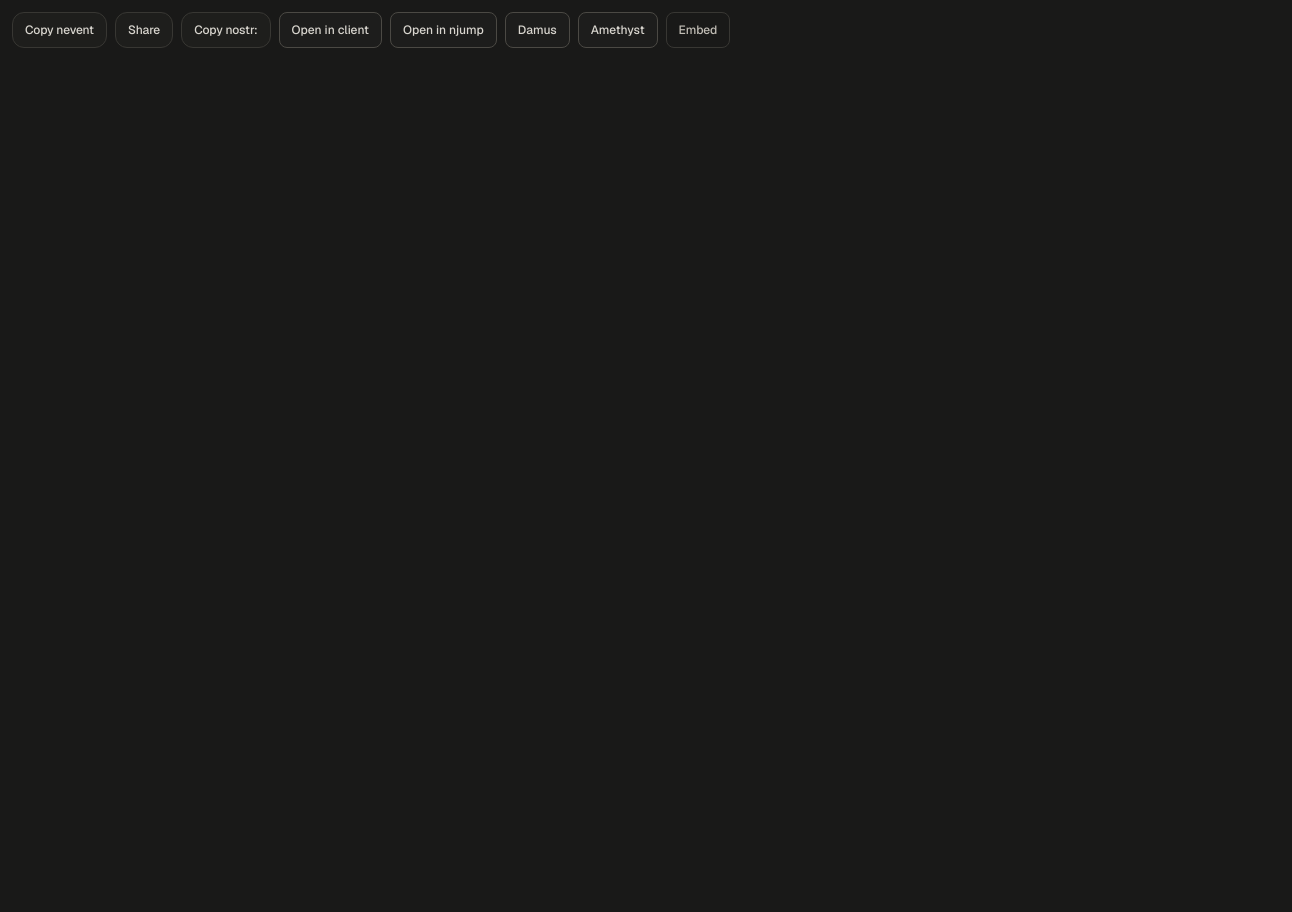
EntityActions › copies identifier, share link, and embed snippet with toast feedback
Click the button "Copy nevent". click: click(59, 30)
box: [12,12,107,48]
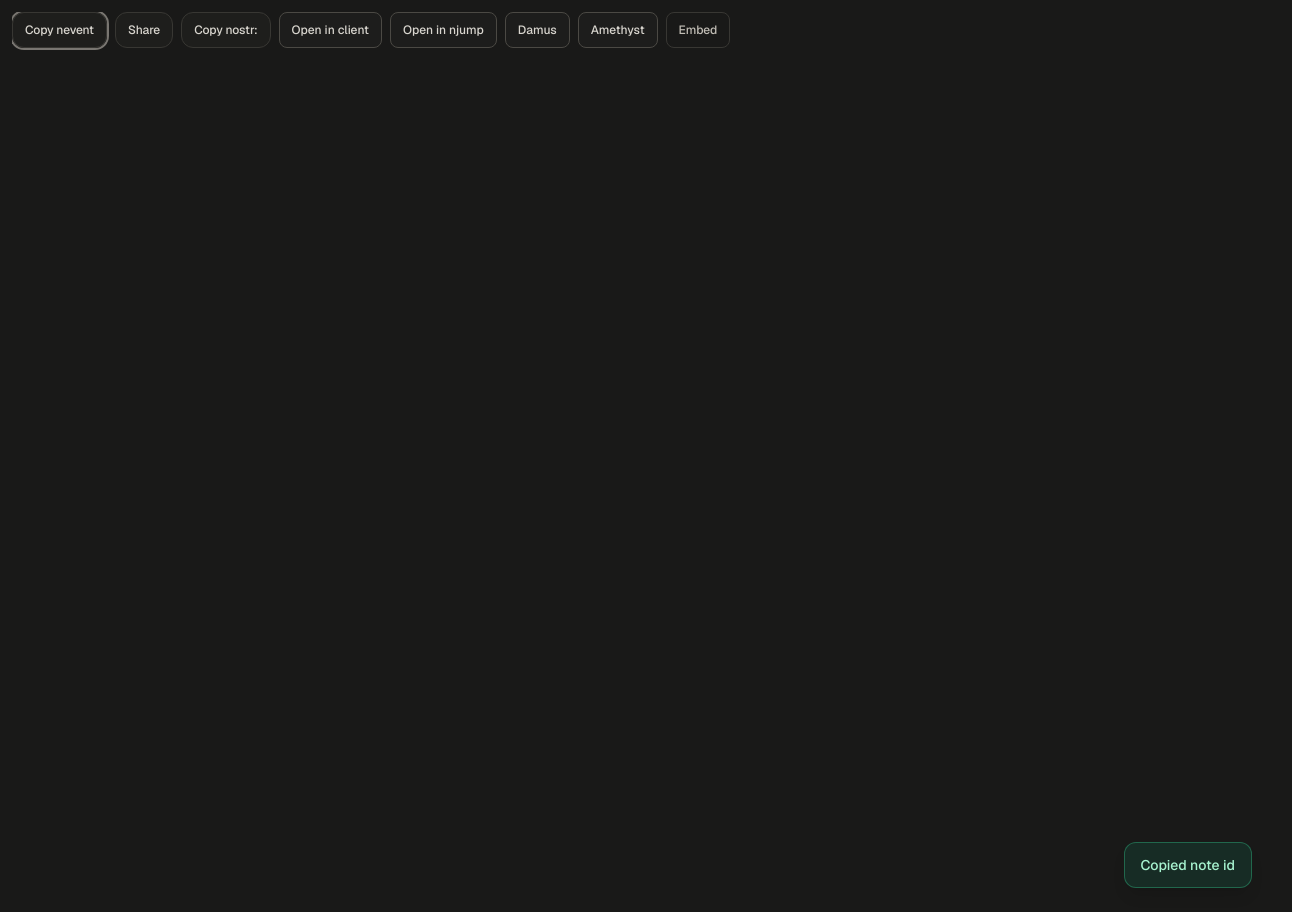
Expected: the text "Copied note id" is shown, [1124,842,1252,888]
Click the button "Share". click: click(144, 30)
box: [115,12,173,48]
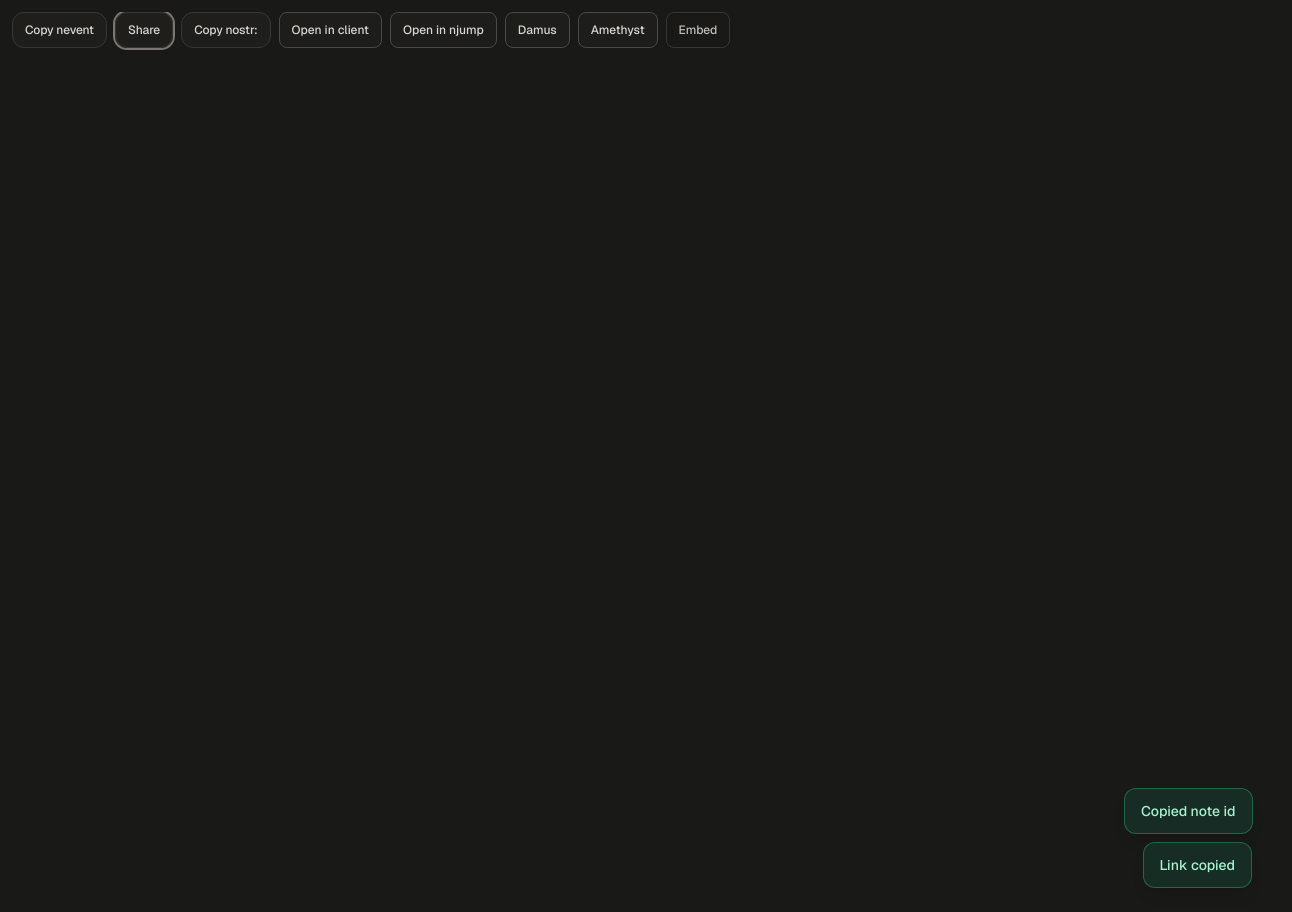
Expected: the link "Damus" is shown, [505,12,570,48]
Expected: the text "Link copied" is shown, [1143,842,1252,888]
Click the button "Embed". click: click(698, 30)
box: [666,12,730,48]
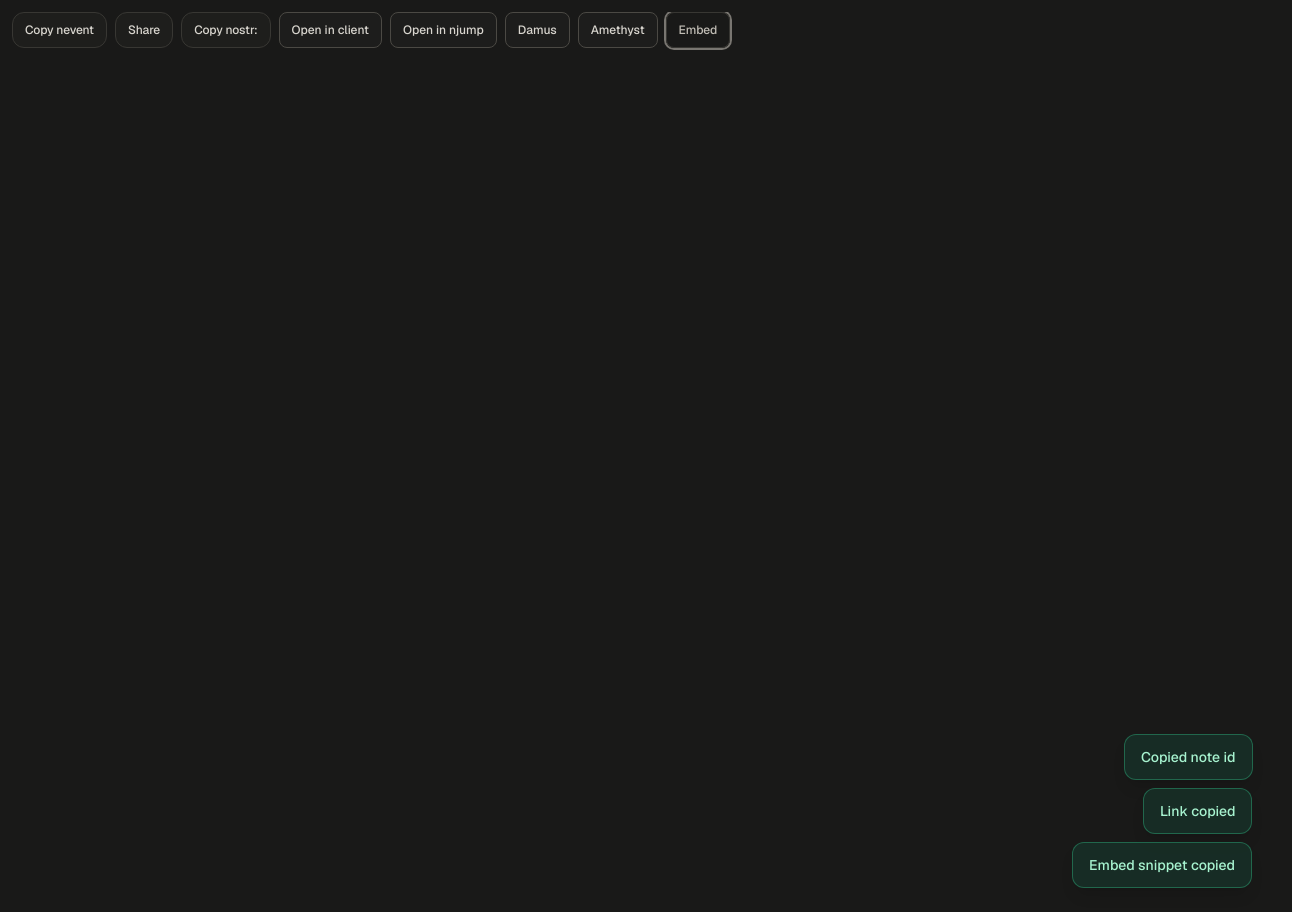
Expected: the text "Embed snippet copied" is shown, [1072,842,1252,888]
